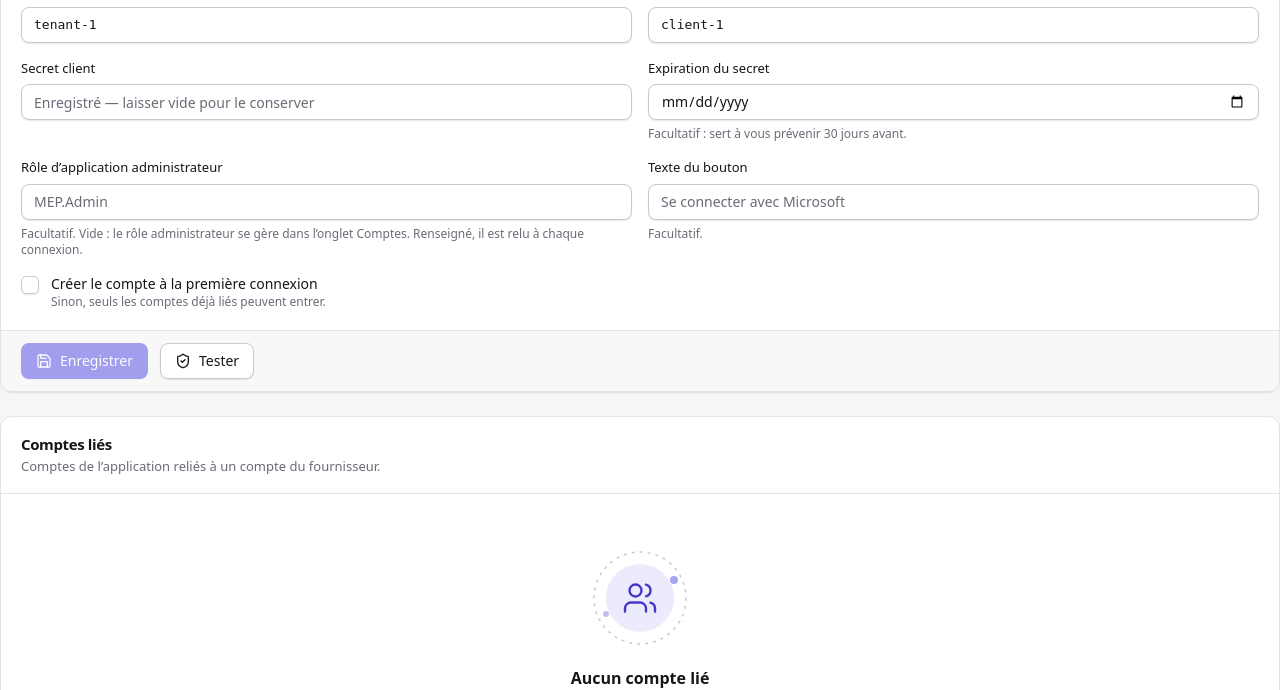
Test: Onglet Connexion unique › affiche le détail de chaque vérification du test
(page scrolled)
Click the button "Tester" at (207, 361), box left=160, top=343, right=254, bottom=379
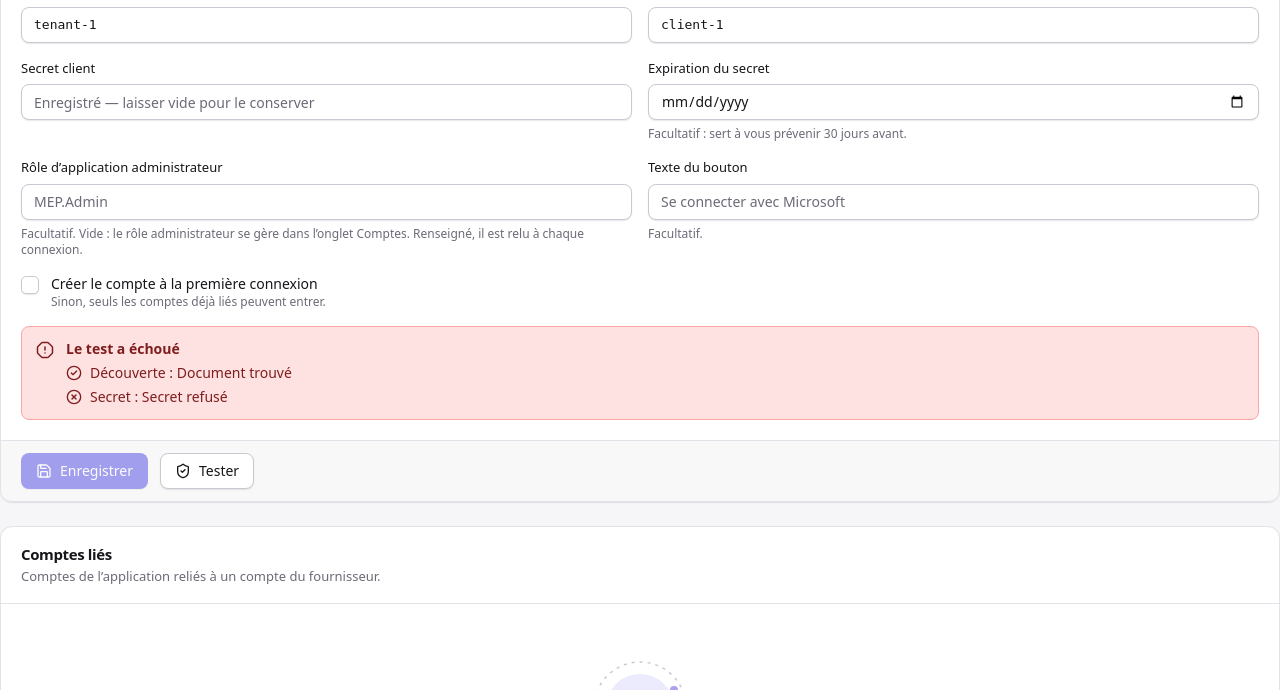
Now the text "Le test a échoué" is shown, box left=66, top=339, right=180, bottom=358
Now the text ": Document trouvé" is shown, box left=166, top=363, right=292, bottom=382
Now the text ": Secret refusé" is shown, box left=131, top=387, right=228, bottom=406
